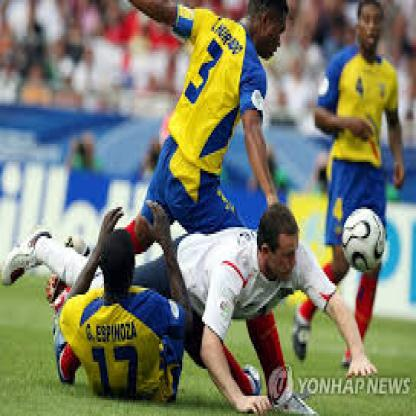Fall_Down: (4, 201, 383, 414)
